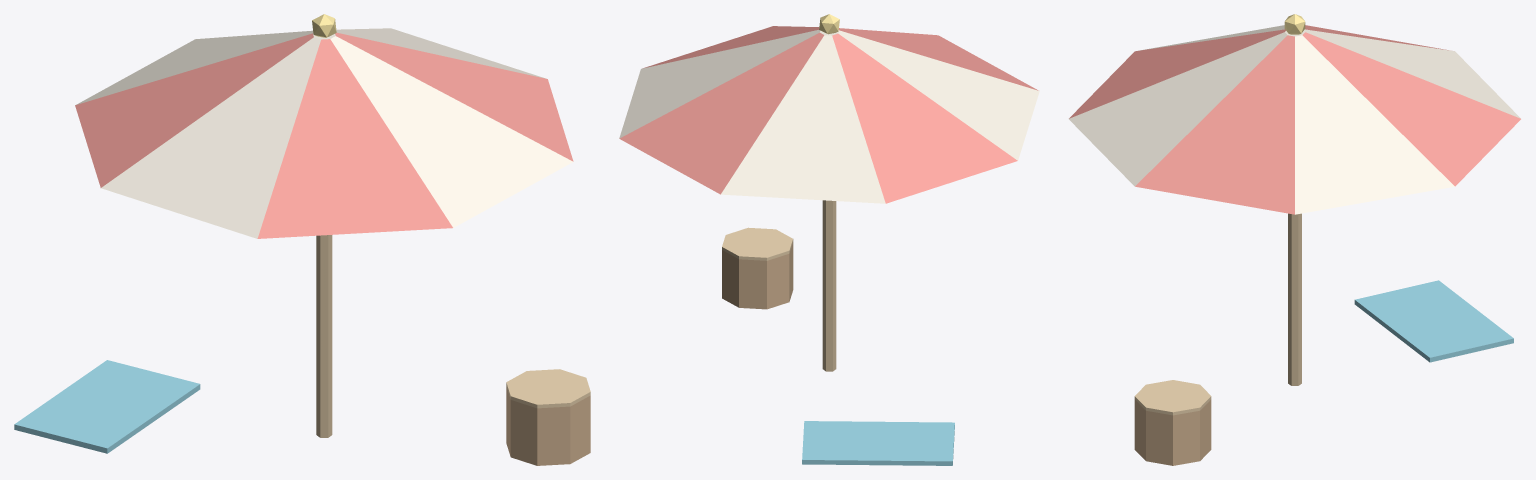
Rendered from Home_Parasol.fbx.
The picture shows the model from 3 angles, left to right: view 1: azimuth 30°, elevation 25°; view 2: azimuth 150°, elevation 25°; view 3: azimuth 270°, elevation 25°; orthographic projection. The views are drawn at different scales.
Visible parts, largest first — view 1: Canopy, Towel, Stool, Pole, StoolTop; view 2: Canopy, Towel, Stool, Pole, StoolTop; view 3: Canopy, Towel, Stool, Pole, StoolTop.
Boxes of the visible parts, left/top/right/bottom form: Canopy: left=75, top=28, right=573, bottom=238; Towel: left=14, top=360, right=200, bottom=453; Stool: left=506, top=386, right=590, bottom=465; Pole: left=316, top=235, right=332, bottom=437; StoolTop: left=506, top=369, right=590, bottom=408; Canopy: left=619, top=26, right=1039, bottom=203; Towel: left=802, top=421, right=954, bottom=465; Stool: left=722, top=242, right=793, bottom=309; Pole: left=822, top=200, right=836, bottom=371; StoolTop: left=722, top=227, right=793, bottom=260; Canopy: left=1069, top=25, right=1520, bottom=214; Towel: left=1354, top=280, right=1513, bottom=362; Stool: left=1134, top=399, right=1211, bottom=465; Pole: left=1288, top=213, right=1301, bottom=385; StoolTop: left=1134, top=380, right=1211, bottom=415.
Bounding box in the file's own units: 2.63 × 2.34 × 2.6.
